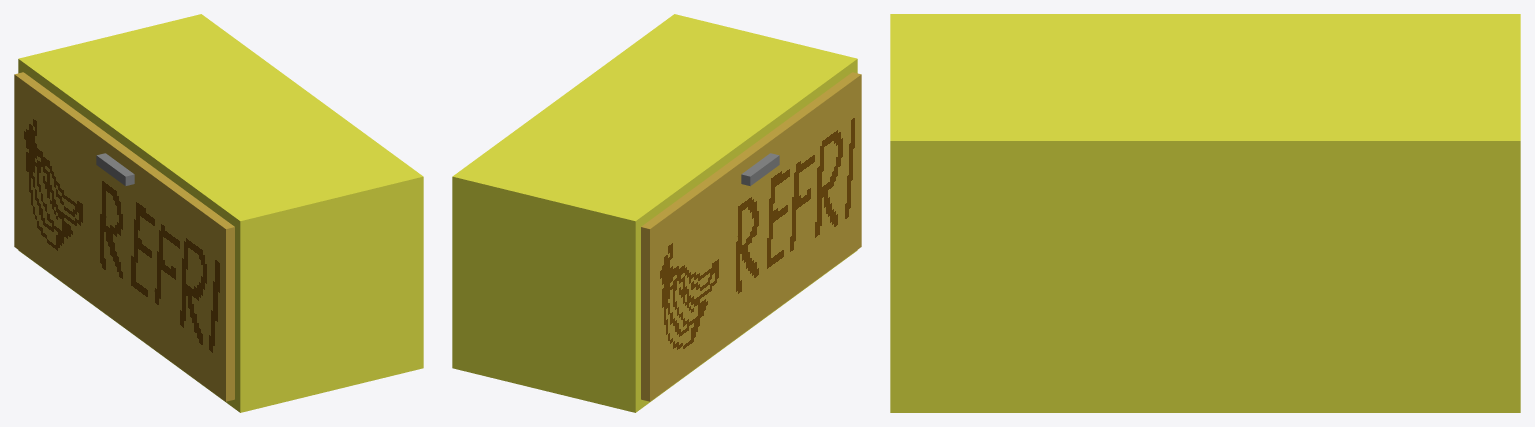
File: refrigerador.glb
The picture shows the model from 3 angles, left to right: view 1: azimuth 30°, elevation 25°; view 2: azimuth 150°, elevation 25°; view 3: azimuth 270°, elevation 25°; orthographic projection. The views are drawn at different scales.
Visible parts, largest first — view 1: cuerpo, puerta, manija; view 2: cuerpo, puerta, manija; view 3: cuerpo.
Boxes of the visible parts, box(x1,y1,x2,y2) form: cuerpo: box(18, 14, 423, 412); puerta: box(14, 72, 234, 401); manija: box(96, 153, 134, 186); cuerpo: box(452, 14, 857, 412); puerta: box(641, 72, 861, 401); manija: box(741, 153, 779, 186); cuerpo: box(890, 14, 1520, 412).
Bounding box in the file's own units: 1.38 × 1.25 × 2.62.
1 material, 1 textured.
